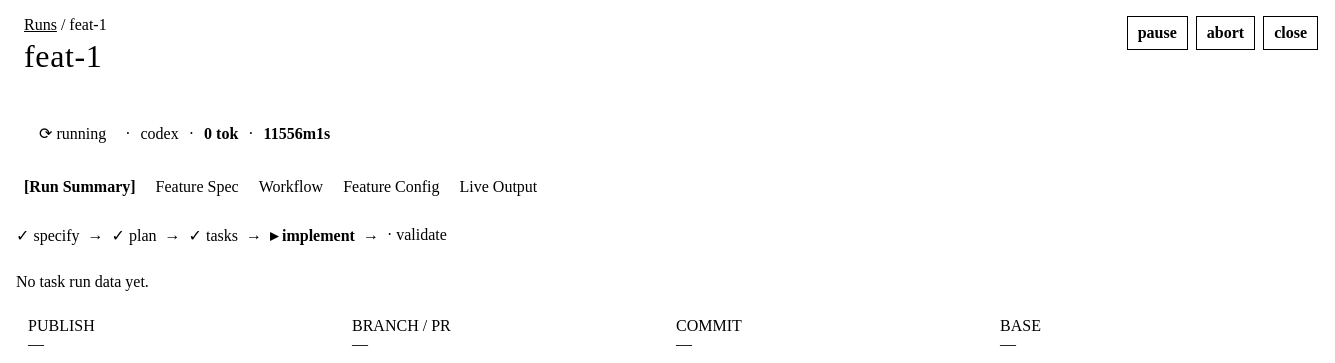
Scenario: RunDetailPage heartbeat display › renders heartbeats as a thinking… style system line while the run is active
The width and height of the screenshot is (1335, 363).
Step 1. Click the button "Live Output" → (498, 187), box [452,172,545,202]
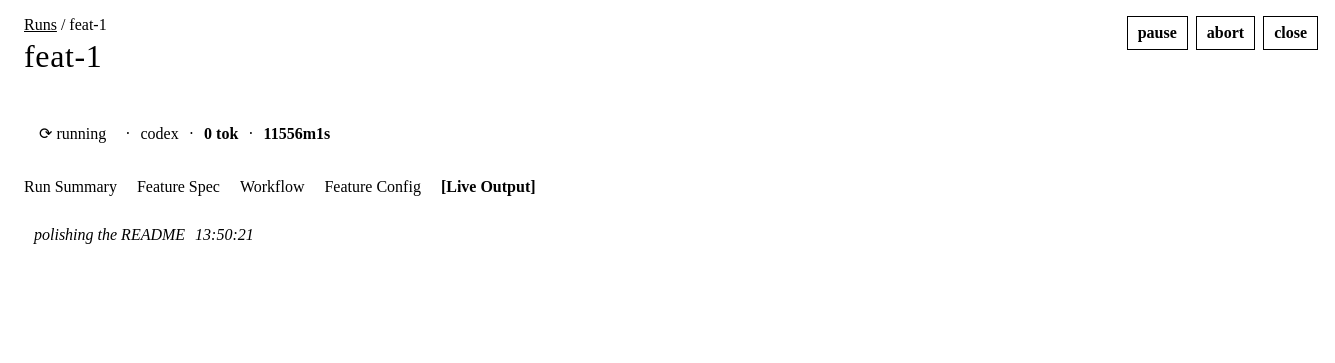
Result: the text "polishing the README" is shown at [34,226,185,243]
